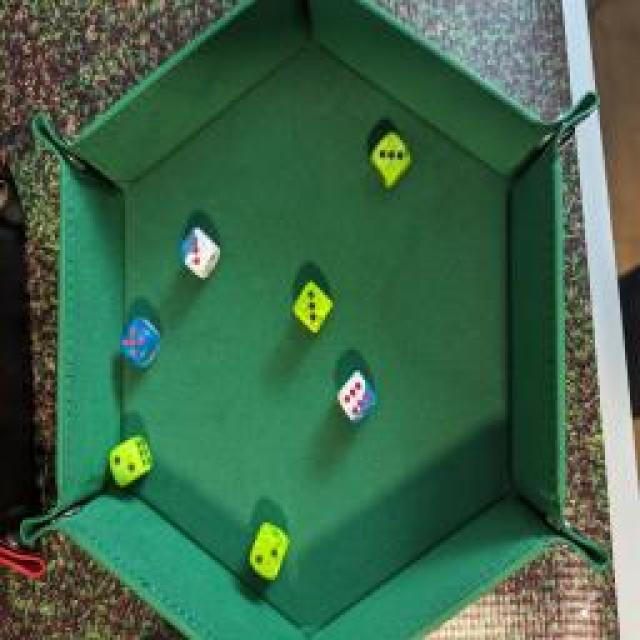dice_2: (245, 515, 290, 580), (106, 438, 154, 492)
dice_3: (366, 125, 416, 190), (174, 223, 224, 285), (290, 277, 338, 335)
dice_6: (332, 365, 378, 425)
